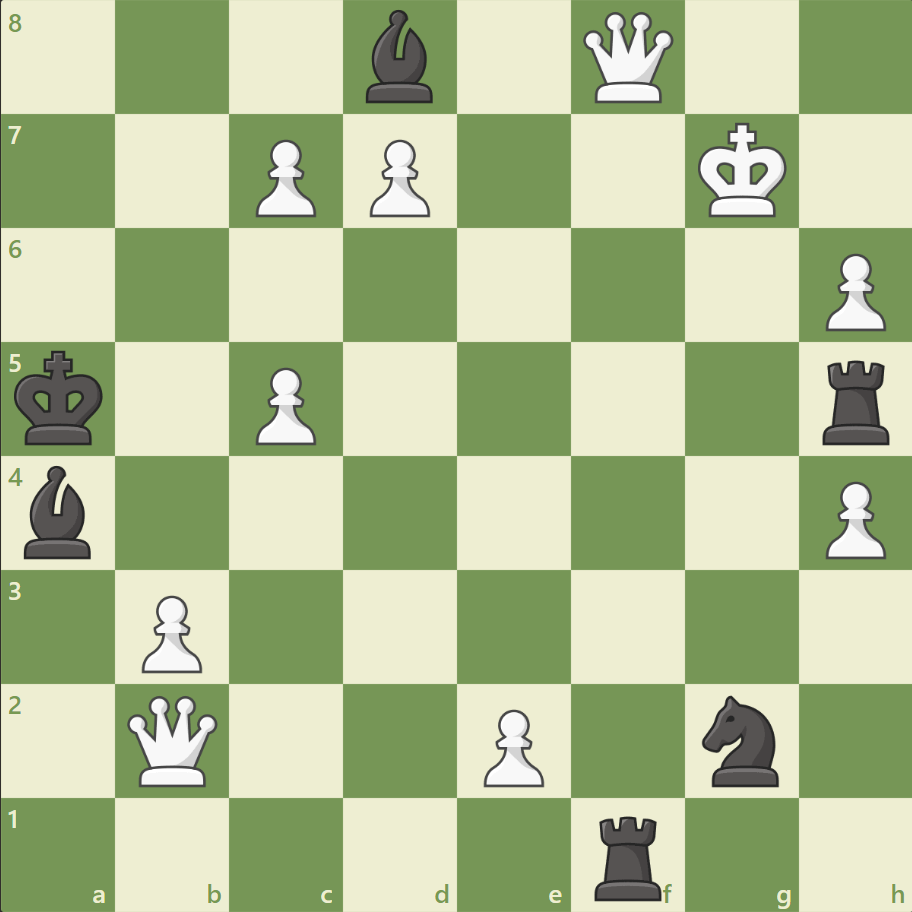K: (692, 117, 792, 225)
P: (247, 132, 322, 223), (247, 359, 322, 450), (133, 586, 208, 677), (474, 700, 549, 791), (361, 132, 435, 223), (815, 246, 889, 337), (815, 473, 889, 564)
Q: (578, 9, 677, 108), (124, 690, 223, 789)
b: (358, 6, 442, 109), (17, 460, 101, 563)
k: (11, 344, 111, 452)
n: (692, 688, 789, 791)
r: (587, 806, 670, 904), (814, 352, 897, 449)
